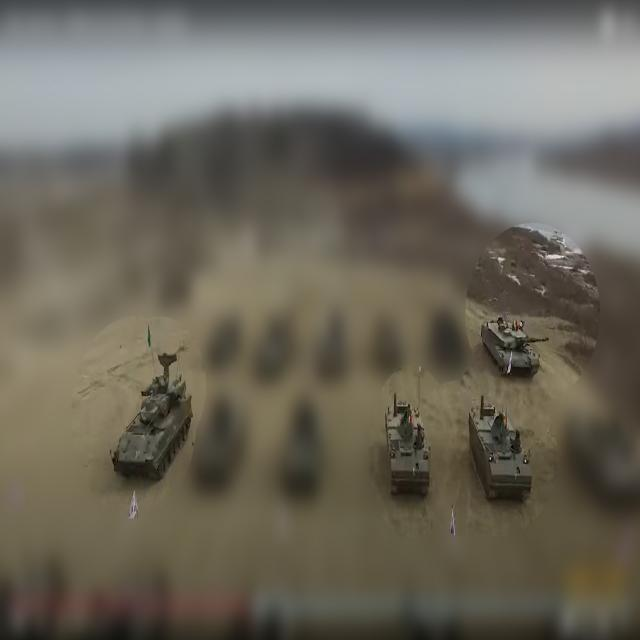tank: (109, 359, 197, 482), (468, 394, 533, 501), (383, 398, 431, 497), (481, 315, 546, 375)
